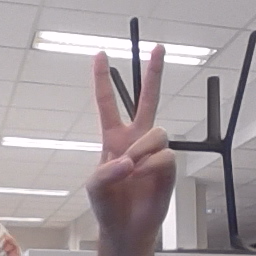V: (83, 42, 180, 231)
